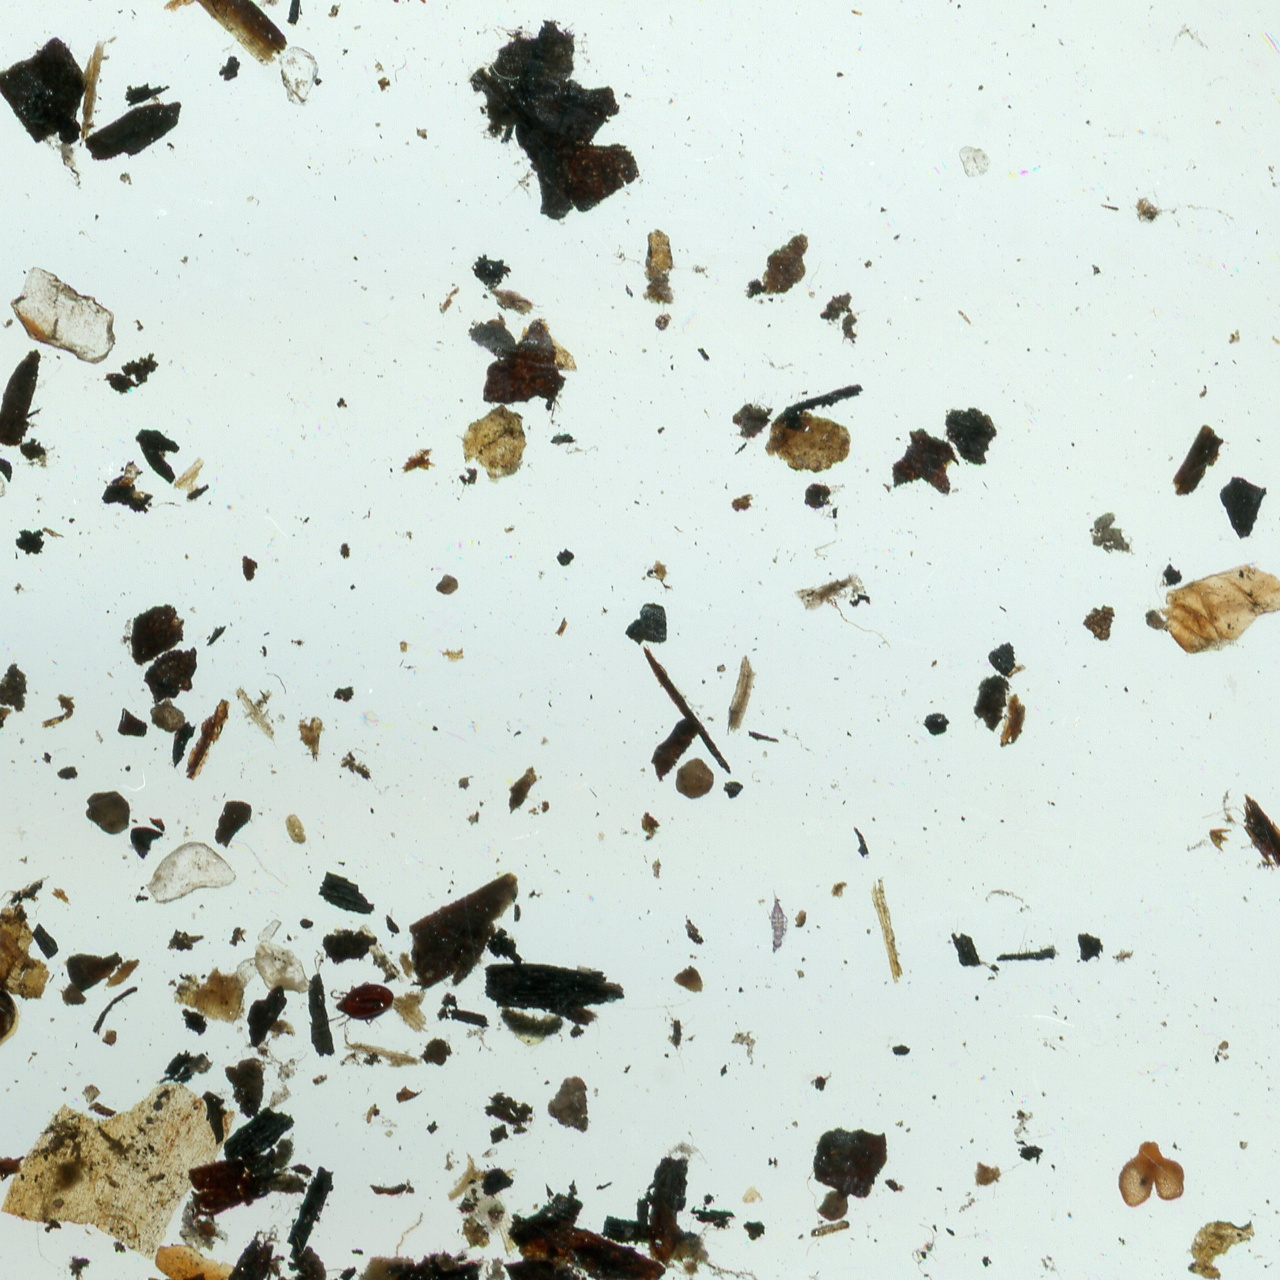arthropod: (328, 981, 395, 1029), (54, 135, 82, 190), (769, 888, 789, 953)
